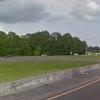Tree: (20, 28, 86, 56)
